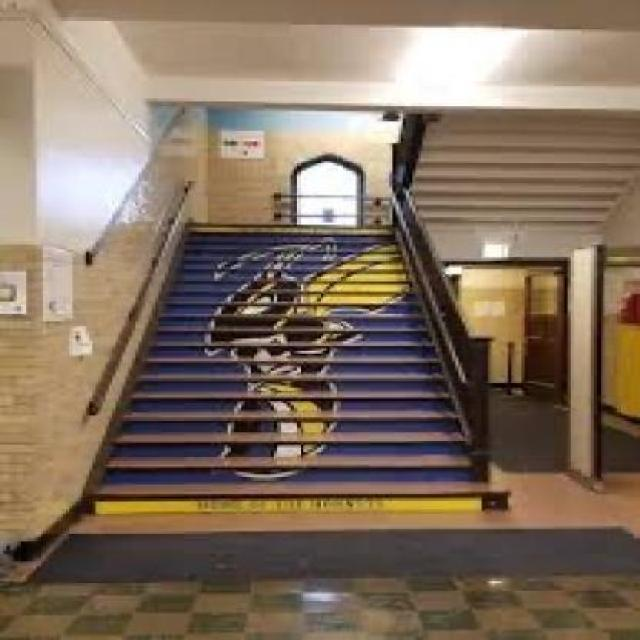stair: (143, 223, 386, 517)
